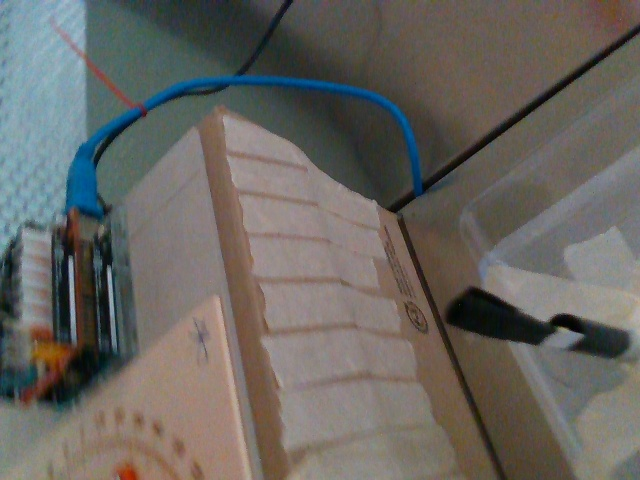test_strip: (443, 286, 584, 351)
